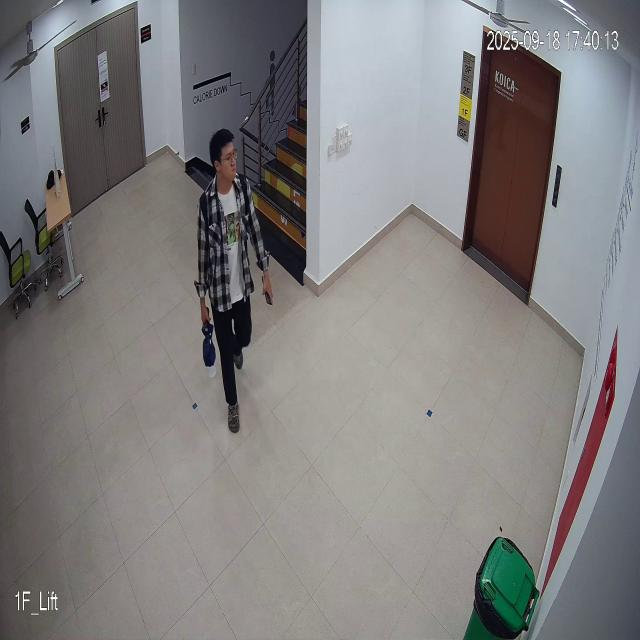face: (207, 127, 240, 186)
